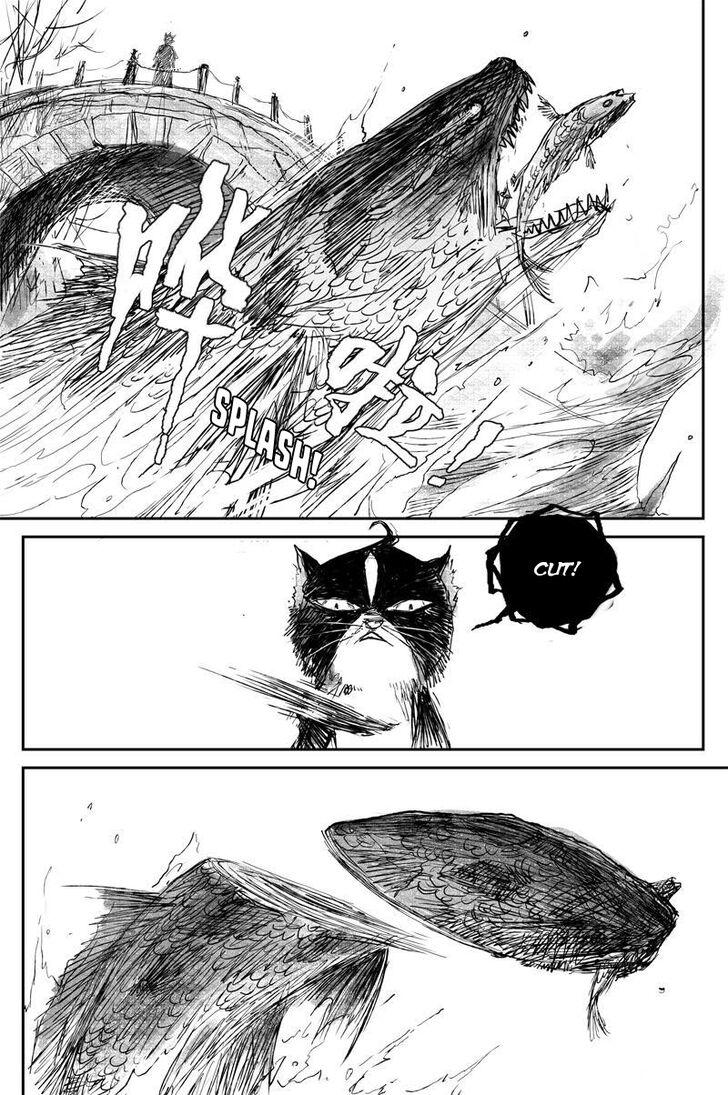Bubble: (483, 501, 625, 636)
